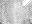person: (21, 0, 29, 8)
